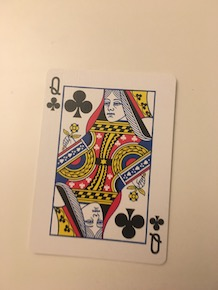QueenOfClubs: (26, 64, 185, 269)
